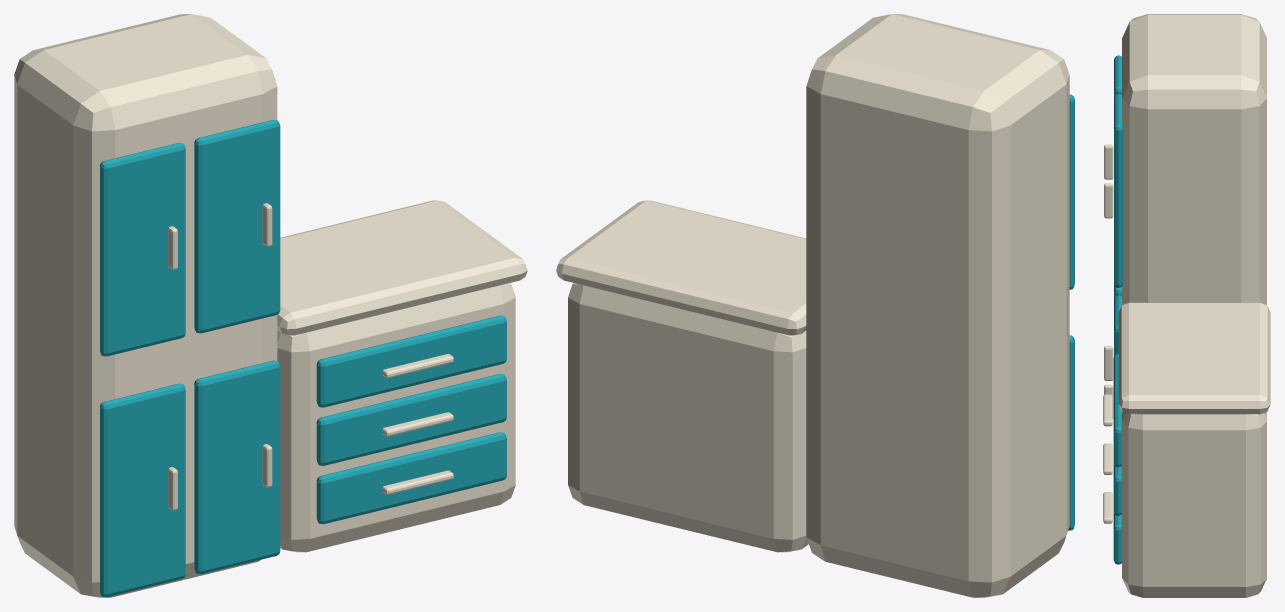
The model's file is prep_storage_advanced.glb.
3 renders of one model, left to right at view 1: azimuth 30°, elevation 25°; view 2: azimuth 150°, elevation 25°; view 3: azimuth 270°, elevation 25°, orthographic. The views are drawn at different scales.
Parts seen in each view (by area): view 1: STATIC_cream.031, MOVING_door.005, MOVING_door.007, MOVING_door.004, MOVING_door.006, MOVING_drawer.003, MOVING_drawer.005, MOVING_drawer.004; view 2: STATIC_cream.031, MOVING_door.004, MOVING_door.006; view 3: STATIC_cream.031, MOVING_door.007, MOVING_drawer.005, MOVING_drawer.003, MOVING_drawer.004, MOVING_door.005, MOVING_door.006.
Boxes of the visible parts, x1,y1,x2,y2 form: STATIC_cream.031: (14,14,527,597); MOVING_door.005: (194,360,280,574); MOVING_door.007: (194,120,280,333); MOVING_door.004: (100,383,185,597); MOVING_door.006: (100,143,185,356); MOVING_drawer.003: (316,432,506,524); MOVING_drawer.005: (316,315,506,407); MOVING_drawer.004: (316,374,506,465); STATIC_cream.031: (556,14,1069,597); MOVING_door.004: (1068,335,1074,530); MOVING_door.006: (1069,94,1074,289); STATIC_cream.031: (1103,14,1270,597); MOVING_door.007: (1114,94,1123,287); MOVING_drawer.005: (1113,353,1121,467); MOVING_drawer.003: (1113,512,1121,564); MOVING_drawer.004: (1113,463,1121,515); MOVING_door.005: (1114,295,1121,356); MOVING_door.006: (1114,55,1121,97).
Size of the model in its own units: 1.82 by 2 by 0.715.
